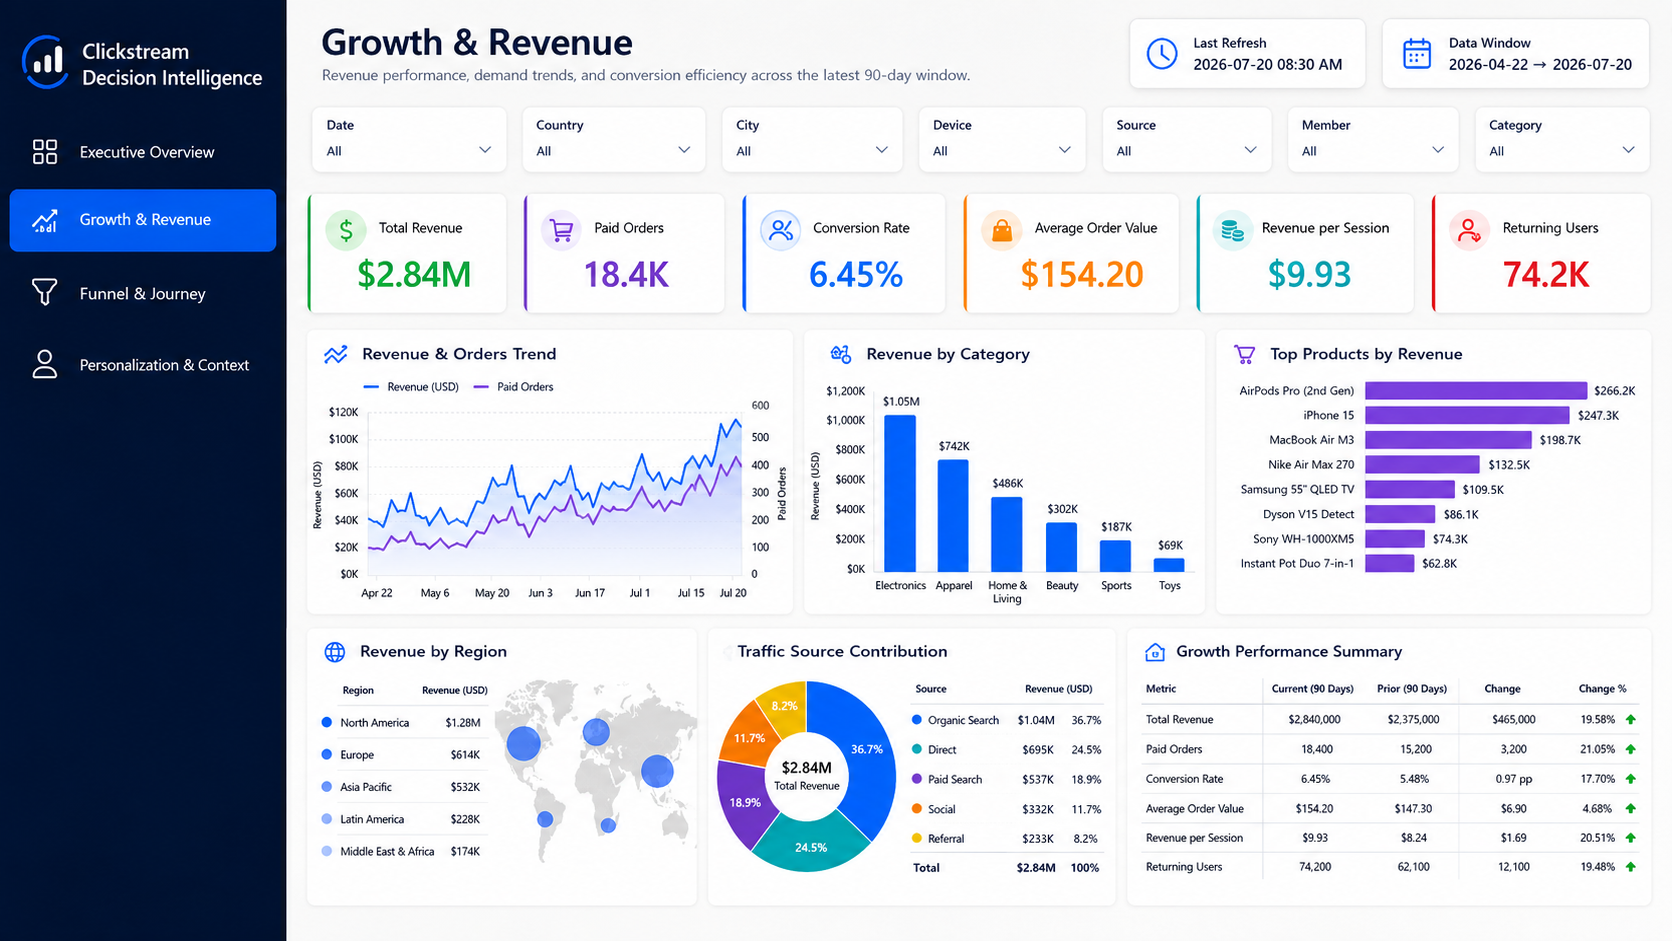

This screenshot's page, from the dashboard's own definition file:
{"tool":"powerbi","page":{"name":"01 Growth & Funnel Command Center","canvas":[1280,720],"ordinal":0},"visuals":[{"type":"textbox","box":[16,14,196,690],"z":0},{"type":"textbox","box":[226,14,1036,76],"z":1000},{"type":"textbox","box":[226,14,8,76],"z":2000},{"type":"textbox","box":[34,32,160,50],"z":3000},{"type":"textbox","box":[34,164,154,32],"z":5000},{"type":"textbox","box":[34,208,154,32],"z":6000},{"type":"textbox","box":[34,658,154,28],"z":11000},{"type":"textbox","box":[254,14,744,52],"z":12000},{"type":"textbox","box":[255,57,760,33],"z":13000},{"type":"slicer","title":"Date","fields":{"Values":["Dim Date.activity_date"]},"box":[226,104,139,76],"z":15000},{"type":"slicer","title":"Country","fields":{"Values":["Dim User.country_code"]},"box":[374,104,139,76],"z":16000},{"type":"slicer","title":"City","fields":{"Values":["Dim User.city"]},"box":[522,104,139,76],"z":17000},{"type":"slicer","title":"Device","fields":{"Values":["Fact Clickstream.device_type"]},"box":[670,104,139,76],"z":18000},{"type":"slicer","title":"Source","fields":{"Values":["Fact Clickstream.traffic_source"]},"box":[818,104,139,76],"z":19000},{"type":"slicer","title":"Member","fields":{"Values":["Dim User.membership_type"]},"box":[966,104,139,76],"z":20000},{"type":"slicer","title":"Category","fields":{"Values":["Dim Product.category"]},"box":[1114,104,139,76],"z":21000},{"type":"cardVisual","fields":{"Data":["Fact Order.Total Revenue"]},"box":[234,180,162,76],"z":22000},{"type":"cardVisual","fields":{"Data":["Fact Order.Paid Orders"]},"box":[402,180,162,76],"z":23000},{"type":"cardVisual","fields":{"Data":["Fact Order.Conversion Rate"]},"box":[569,180,162,76],"z":24000},{"type":"cardVisual","fields":{"Data":["Fact Clickstream.Sessions"]},"box":[745,180,162,76],"z":25000},{"type":"cardVisual","fields":{"Data":["Mart Journey Session.Cart Abandoned Sessions"]},"box":[917,180,162,76],"z":26000},{"type":"cardVisual","fields":{"Data":["Fact Clickstream.Revenue at Risk"]},"box":[1086,180,162,76],"z":27000},{"type":"cardVisual","fields":{"Data":["Fact Clickstream.View to Cart Rate"]},"box":[255,268,190,76],"z":28000},{"type":"cardVisual","fields":{"Data":["Fact Clickstream.Cart to Checkout Rate"]},"box":[507,264,190,76],"z":29000},{"type":"cardVisual","fields":{"Data":["Fact Clickstream.Checkout to Purchase Rate"]},"box":[761,264,196,76],"z":30000},{"type":"cardVisual","fields":{"Data":["Mart Journey Session.Average Time on Site"]},"box":[1058,264,190,76],"z":31000},{"type":"lineChart","title":"Average Time on Site Trend","fields":{"Category":["Mart Journey Session.activity_date"],"Y":["Mart Journey Session.Average Time on Site"]},"box":[234,346,497,155],"z":36000},{"type":"barChart","title":"Top Entry Pages / Navigation Flow","fields":{"Category":["Mart Navigation Paths.from_page"],"Y":["Sum(Mart Navigation Paths.transition_count)"]},"box":[766,346,482,155],"z":37000},{"type":"barChart","title":"High-Intent Cities — event volume","fields":{"Category":["Mart Journey Session.city"],"Y":["Sum(Mart Journey Session.event_count)"]},"box":[230,518,501,168],"z":38000},{"type":"barChart","title":"Funnel Activity — events by type","fields":{"Category":["Fact Clickstream.event_type"],"Y":["Fact Clickstream.Events"]},"box":[766,518,490,168],"z":39000}]}

Visuals, with their boxes on the page's 1280x720 design canvas (x1, y1, x2, y2). These are canvas units, not pixel positions in the 1672x941 screenshot, which may show the page scaled, cropped or inside an application window:
textbox: box=[16, 14, 212, 704]
textbox: box=[226, 14, 1262, 90]
textbox: box=[226, 14, 234, 90]
textbox: box=[34, 32, 194, 82]
textbox: box=[34, 164, 188, 196]
textbox: box=[34, 208, 188, 240]
textbox: box=[34, 658, 188, 686]
textbox: box=[254, 14, 998, 66]
textbox: box=[255, 57, 1015, 90]
"Date" slicer: box=[226, 104, 365, 180]
"Country" slicer: box=[374, 104, 513, 180]
"City" slicer: box=[522, 104, 661, 180]
"Device" slicer: box=[670, 104, 809, 180]
"Source" slicer: box=[818, 104, 957, 180]
"Member" slicer: box=[966, 104, 1105, 180]
"Category" slicer: box=[1114, 104, 1253, 180]
cardVisual - Fact Order.Total Revenue: box=[234, 180, 396, 256]
cardVisual - Fact Order.Paid Orders: box=[402, 180, 564, 256]
cardVisual - Fact Order.Conversion Rate: box=[569, 180, 731, 256]
cardVisual - Fact Clickstream.Sessions: box=[745, 180, 907, 256]
cardVisual - Mart Journey Session.Cart Abandoned Sessions: box=[917, 180, 1079, 256]
cardVisual - Fact Clickstream.Revenue at Risk: box=[1086, 180, 1248, 256]
cardVisual - Fact Clickstream.View to Cart Rate: box=[255, 268, 445, 344]
cardVisual - Fact Clickstream.Cart to Checkout Rate: box=[507, 264, 697, 340]
cardVisual - Fact Clickstream.Checkout to Purchase Rate: box=[761, 264, 957, 340]
cardVisual - Mart Journey Session.Average Time on Site: box=[1058, 264, 1248, 340]
"Average Time on Site Trend" lineChart: box=[234, 346, 731, 501]
"Top Entry Pages / Navigation Flow" barChart: box=[766, 346, 1248, 501]
"High-Intent Cities — event volume" barChart: box=[230, 518, 731, 686]
"Funnel Activity — events by type" barChart: box=[766, 518, 1256, 686]
